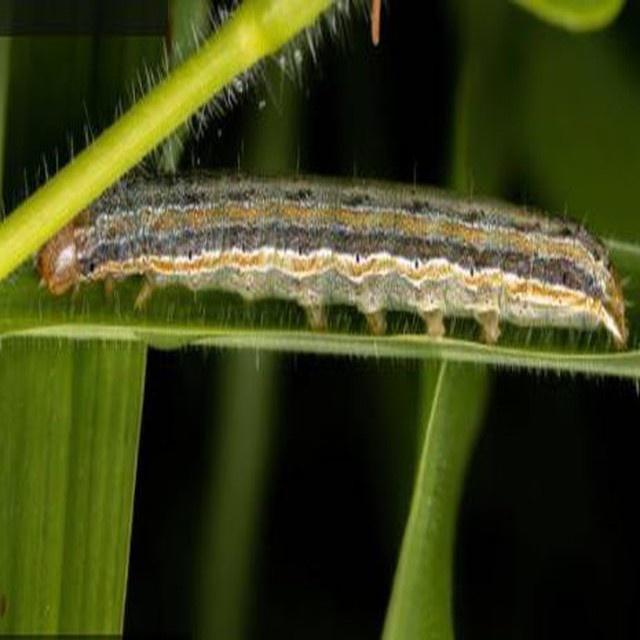Plaga: (34, 168, 640, 350)
